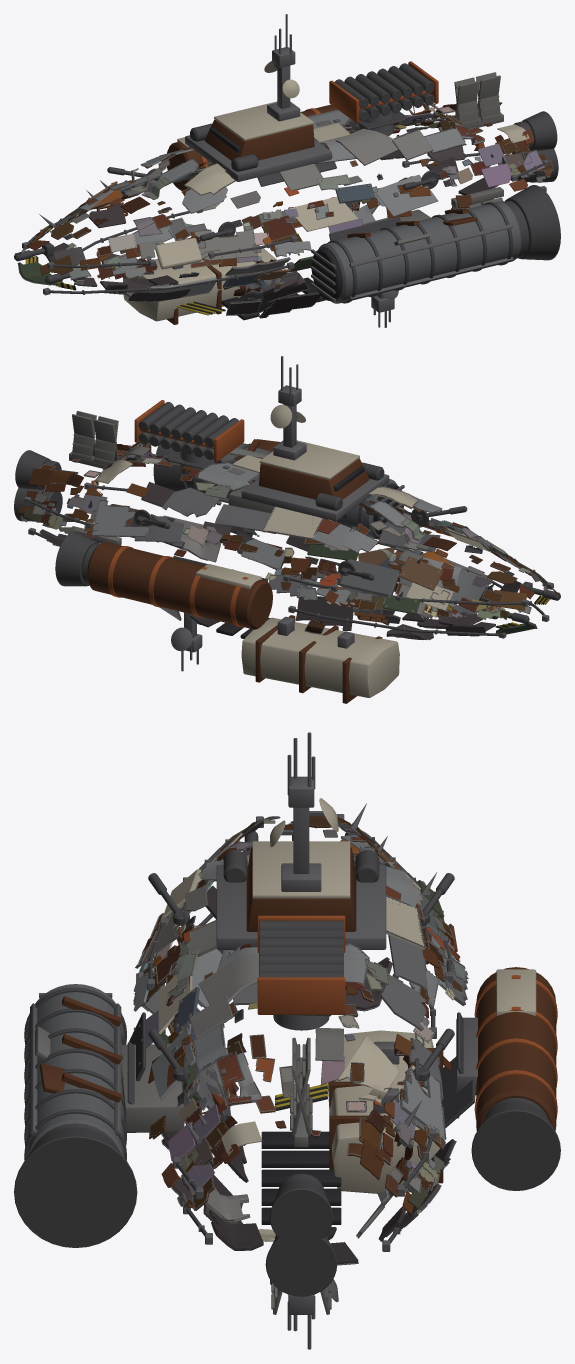
The model's file is C19_51_v15_kit.glb.
The picture shows the model from 3 angles, top to bottom: view 1: azimuth 30°, elevation 25°; view 2: azimuth 150°, elevation 25°; view 3: azimuth 270°, elevation 25°; orthographic projection. The views are drawn at different scales.
Visible parts, largest first — view 1: C19v15_kit; view 2: C19v15_kit; view 3: C19v15_kit.
Boxes of the visible parts, bbox=[...] form: C19v15_kit: bbox=[14, 14, 560, 327]; C19v15_kit: bbox=[14, 356, 560, 703]; C19v15_kit: bbox=[14, 732, 560, 1349].
Size of the model in its own units: 0.9589 by 0.5948 by 0.5475.
